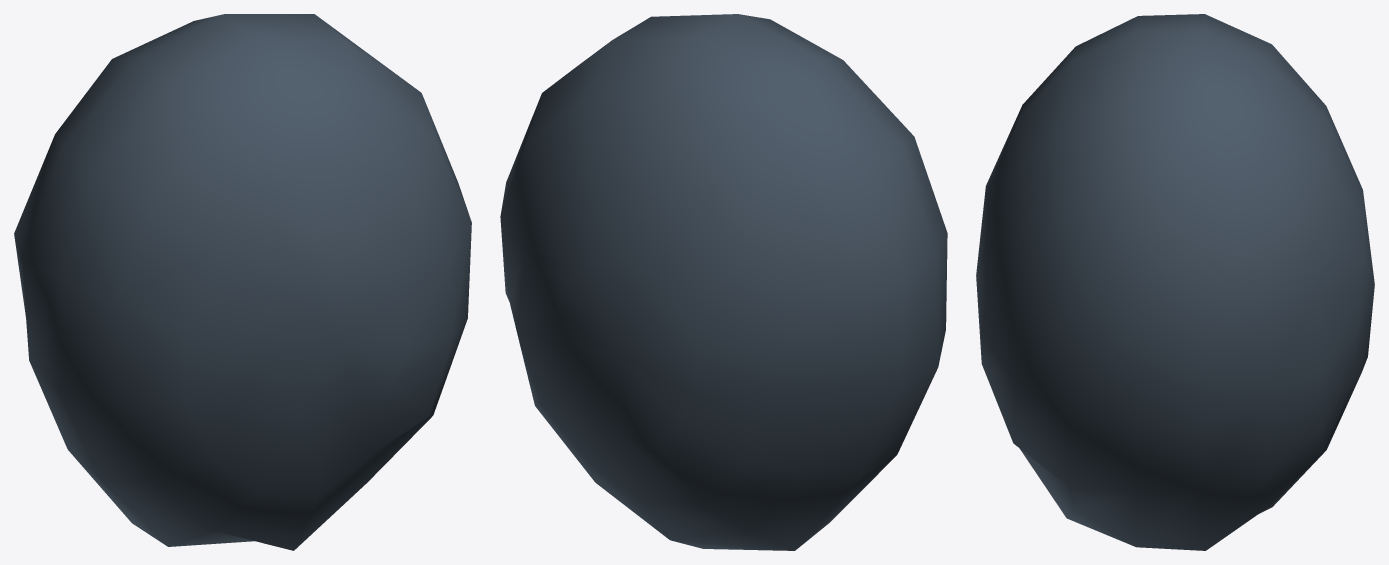
The model's file is step_rock_decoy.glb.
3 renders of one model, left to right at view 1: azimuth 30°, elevation 25°; view 2: azimuth 150°, elevation 25°; view 3: azimuth 270°, elevation 25°, orthographic.
Parts seen in each view (by area): view 1: Step_Rock_Decoy_Body; view 2: Step_Rock_Decoy_Body; view 3: Step_Rock_Decoy_Body.
Boxes of the visible parts, box(x1,y1,x2,y2) form: Step_Rock_Decoy_Body: box(14, 14, 471, 550); Step_Rock_Decoy_Body: box(500, 14, 947, 550); Step_Rock_Decoy_Body: box(976, 14, 1374, 550).
Size of the model in its own units: 1.16 by 1.41 by 1.
